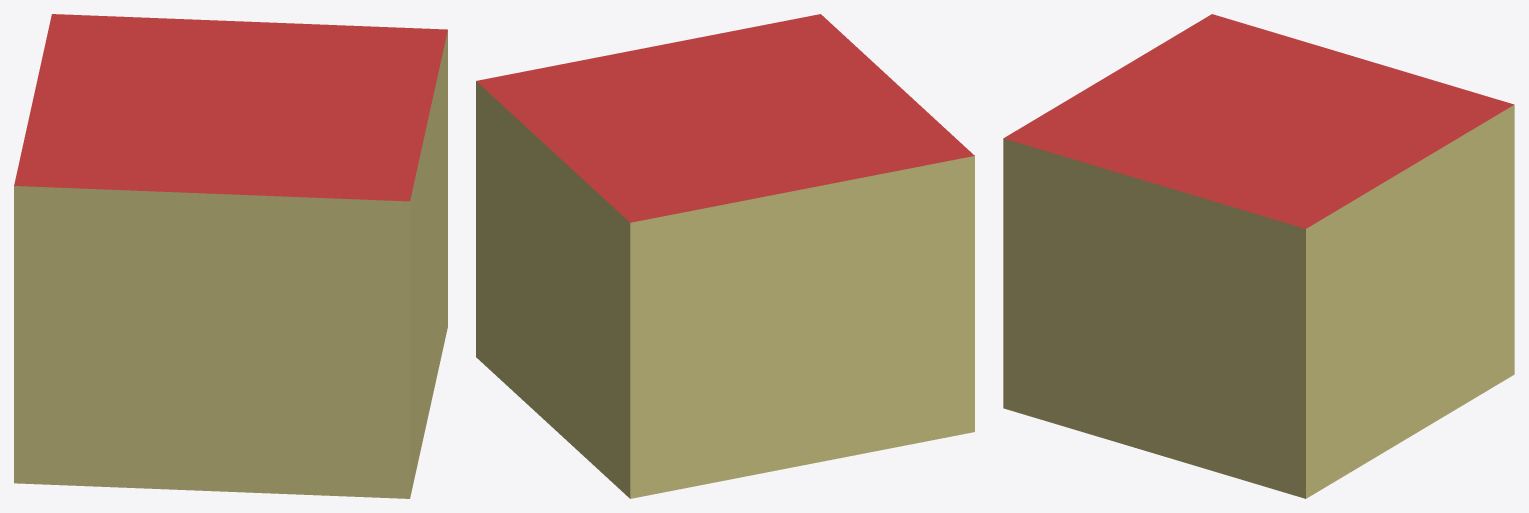
The picture shows the model from 3 angles, left to right: view 1: azimuth 30°, elevation 25°; view 2: azimuth 150°, elevation 25°; view 3: azimuth 270°, elevation 25°; orthographic projection. The views are drawn at different scales.
Visible parts, largest first — view 1: group_4, group_3; view 2: group_4, group_3; view 3: group_4, group_3.
Boxes of the visible parts, x1=… form: group_4: x1=14, y1=30, x2=447, y2=498; group_3: x1=14, y1=14, x2=447, y2=201; group_4: x1=476, y1=81, x2=974, y2=498; group_3: x1=476, y1=14, x2=974, y2=222; group_4: x1=1003, y1=105, x2=1514, y2=498; group_3: x1=1003, y1=14, x2=1514, y2=228.
Size of the model in its own units: 9.37 by 9.42 by 5.49.
